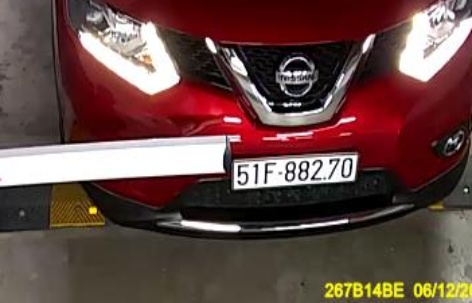plate: (228, 148, 361, 191)
